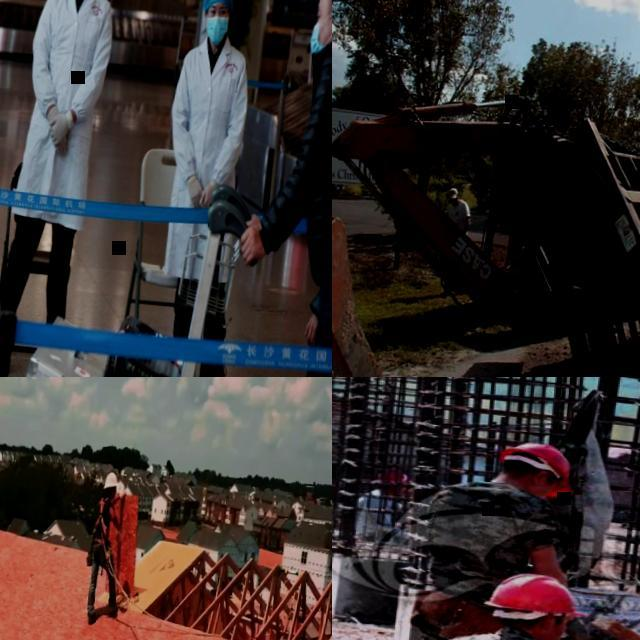helmet: (486, 567, 594, 626), (494, 439, 578, 504), (370, 463, 416, 487), (102, 471, 119, 492)
